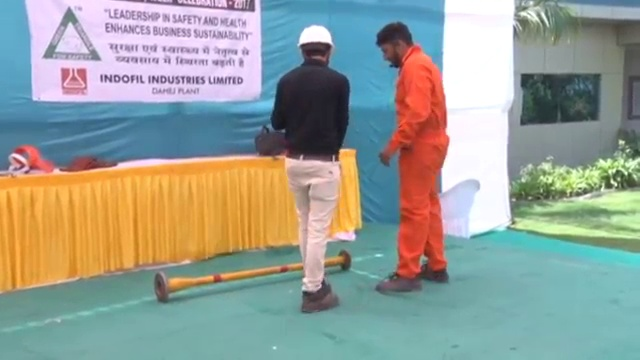helmet: (295, 23, 337, 52)
helmet_off: (375, 21, 416, 70)
helmet_on: (291, 23, 336, 66)
person: (269, 24, 350, 315), (371, 20, 450, 294)
